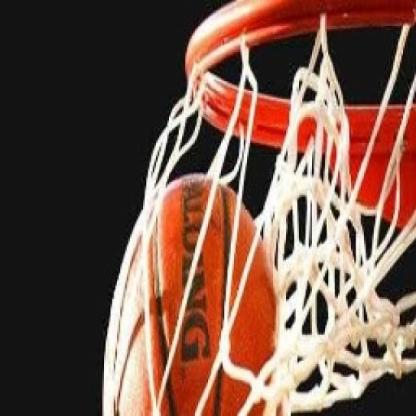basketball: (93, 172, 289, 416)
